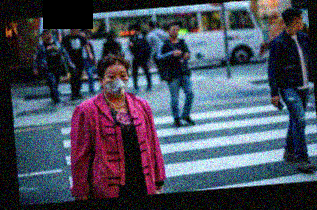with_mask: (104, 68, 129, 97)
without_mask: (296, 14, 305, 31), (169, 26, 179, 38), (70, 25, 79, 35), (44, 31, 52, 40)
